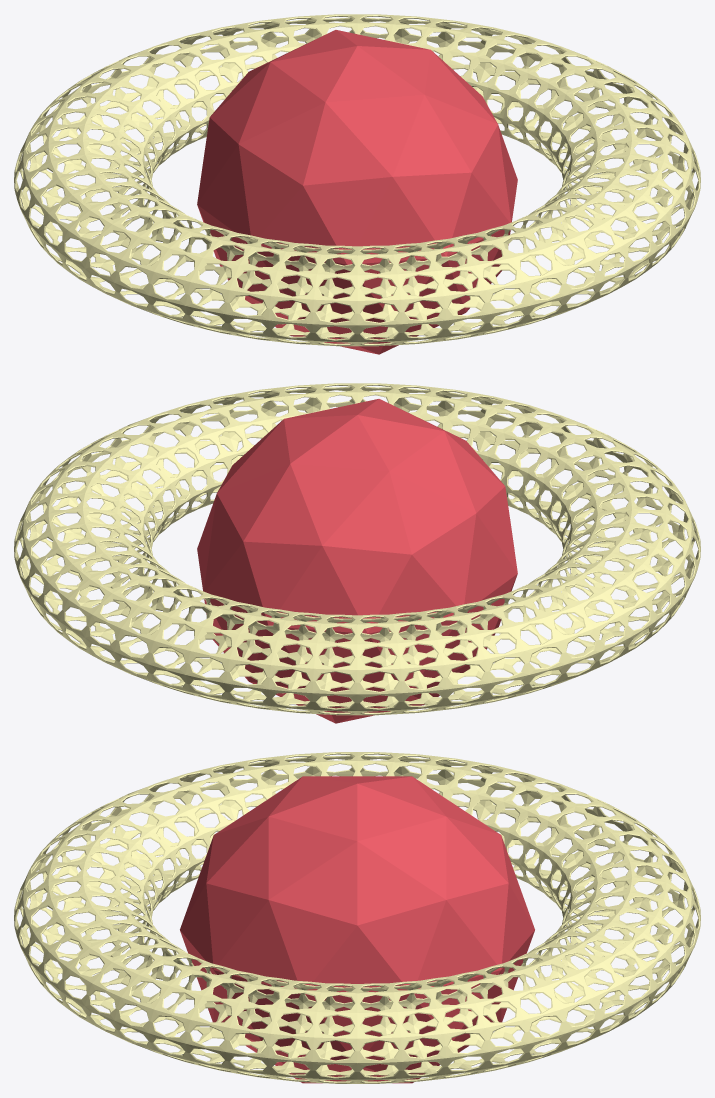
File: doughnut.fbx
The picture shows the model from 3 angles, top to bottom: view 1: azimuth 30°, elevation 25°; view 2: azimuth 150°, elevation 25°; view 3: azimuth 270°, elevation 25°; orthographic projection.
Visible parts, largest first — view 1: Torus, Icosphere; view 2: Torus, Icosphere; view 3: Torus, Icosphere.
Boxes of the visible parts, box(x1,y1,x2,y2) form: Torus: box(14, 14, 700, 346); Icosphere: box(197, 30, 517, 354); Torus: box(14, 383, 700, 715); Icosphere: box(197, 399, 517, 723); Torus: box(14, 752, 700, 1083); Icosphere: box(180, 776, 534, 1083).
Size of the model in its own units: 3.87 by 1.82 by 3.87.
